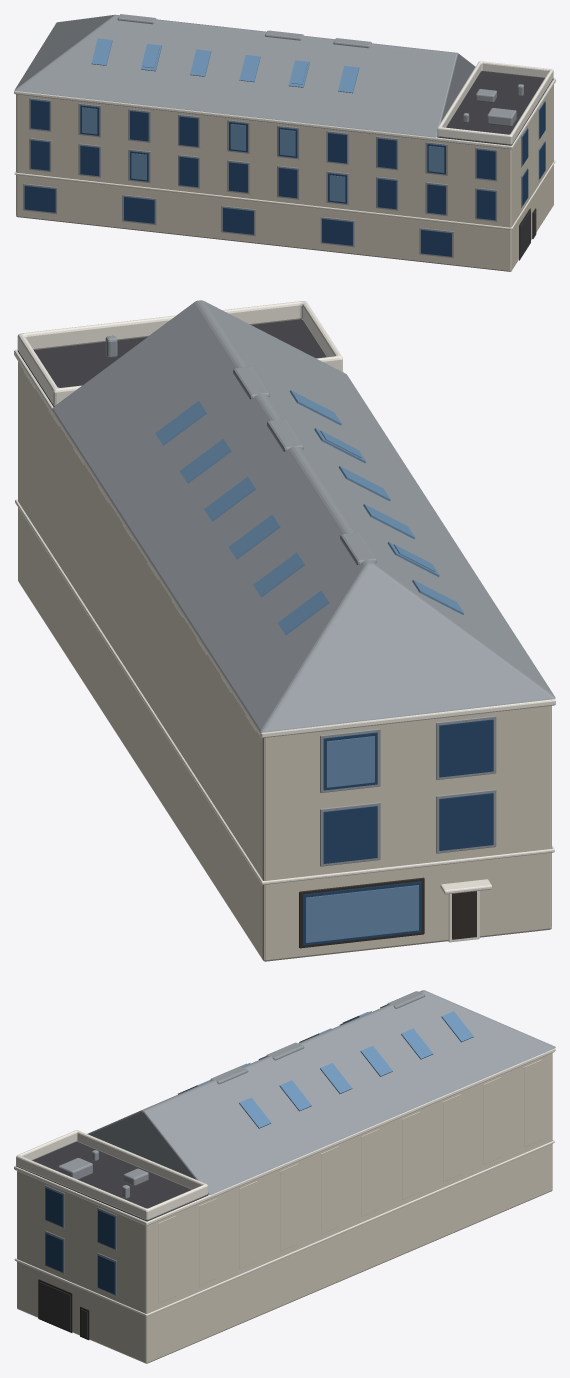
Rendered from 181-south-park.glb.
The picture shows the model from 3 angles, top to bottom: view 1: azimuth 30°, elevation 25°; view 2: azimuth 150°, elevation 25°; view 3: azimuth 270°, elevation 25°; orthographic projection. The views are drawn at different scales.
Parts seen in each view (by area): view 1: body, roof, flat_deck, flat_parapet, eave_fascia, floor_band, swg0_fill, swg1_fill, swg2_fill, swg3_fill, swg4_fill, sw0_0_fill (+25 smaller); view 2: roof, body, flat_parapet, store_glow, flat_deck, eave_fascia, floor_band, nw0_0_fill, nw1_1_fill, nw0_1_fill, nw1_0_glow, ne4_recess (+22 smaller); view 3: body, roof, flat_parapet, flat_deck, eave_fascia, floor_band, ne2_recess, ne5_recess, ne8_recess, ne0_recess, ne1_recess, ne3_recess (+16 smaller).
Boxes of the visible parts, x1,y1,x2,y2 form: body: (16, 79, 553, 271); roof: (14, 14, 475, 137); flat_deck: (437, 71, 553, 145); flat_parapet: (437, 61, 553, 144); eave_fascia: (14, 78, 555, 149); floor_band: (14, 160, 555, 229); swg0_fill: (24, 185, 55, 212); swg1_fill: (124, 196, 154, 223); swg2_fill: (223, 207, 253, 234); swg3_fill: (322, 218, 352, 245); swg4_fill: (421, 229, 451, 256); sw0_0_fill: (30, 140, 49, 170); roof: (52, 300, 555, 732); body: (18, 361, 551, 961); flat_parapet: (17, 301, 342, 405); store_glow: (306, 885, 418, 942); flat_deck: (17, 319, 326, 406); eave_fascia: (14, 349, 555, 737); floor_band: (15, 499, 554, 884); nw0_0_fill: (323, 806, 377, 863); nw1_1_fill: (439, 719, 493, 777); nw0_1_fill: (439, 793, 493, 850); nw1_0_glow: (326, 736, 374, 787); ne4_recess: (122, 524, 133, 670); body: (17, 1053, 552, 1363); roof: (87, 990, 555, 1194); flat_parapet: (16, 1130, 207, 1220); flat_deck: (16, 1142, 208, 1221); eave_fascia: (14, 1048, 555, 1225); floor_band: (14, 1140, 554, 1316); ne2_recess: (239, 1181, 257, 1268); ne5_recess: (361, 1129, 379, 1216); ne8_recess: (483, 1077, 501, 1164); ne0_recess: (158, 1216, 175, 1303); ne1_recess: (199, 1198, 216, 1285); ne3_recess: (280, 1163, 297, 1251).
Bounding box in the file's own units: 40.84 × 16.5 × 40.53.
